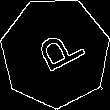P_SW: (25, 25, 85, 80)
